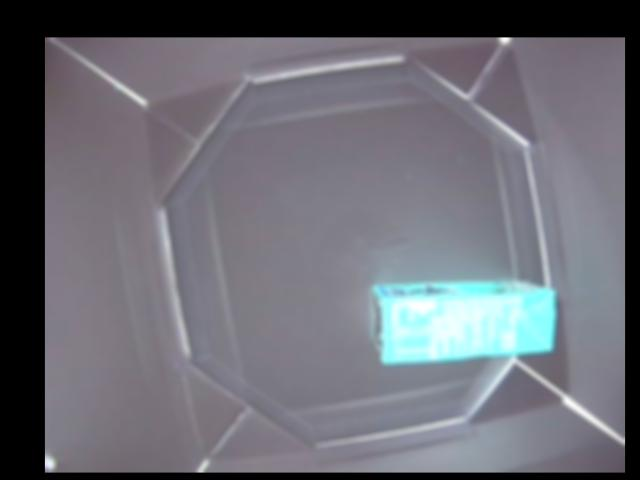Bottle: (370, 269, 558, 364)
